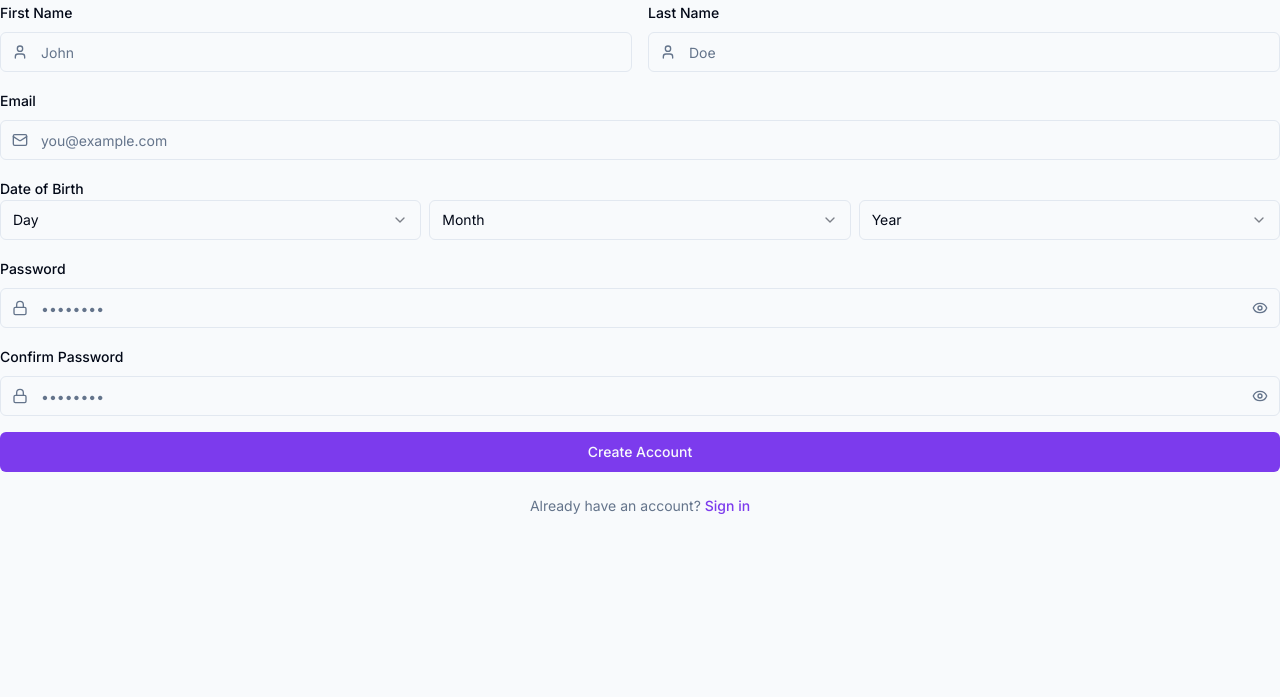
Scenario: SignupForm › should show password uppercase error if missing
The width and height of the screenshot is (1280, 697).
Type "nouppercase1!" into the password field labelled "Password". click: (640, 308)
box: [0,288,1279,328]
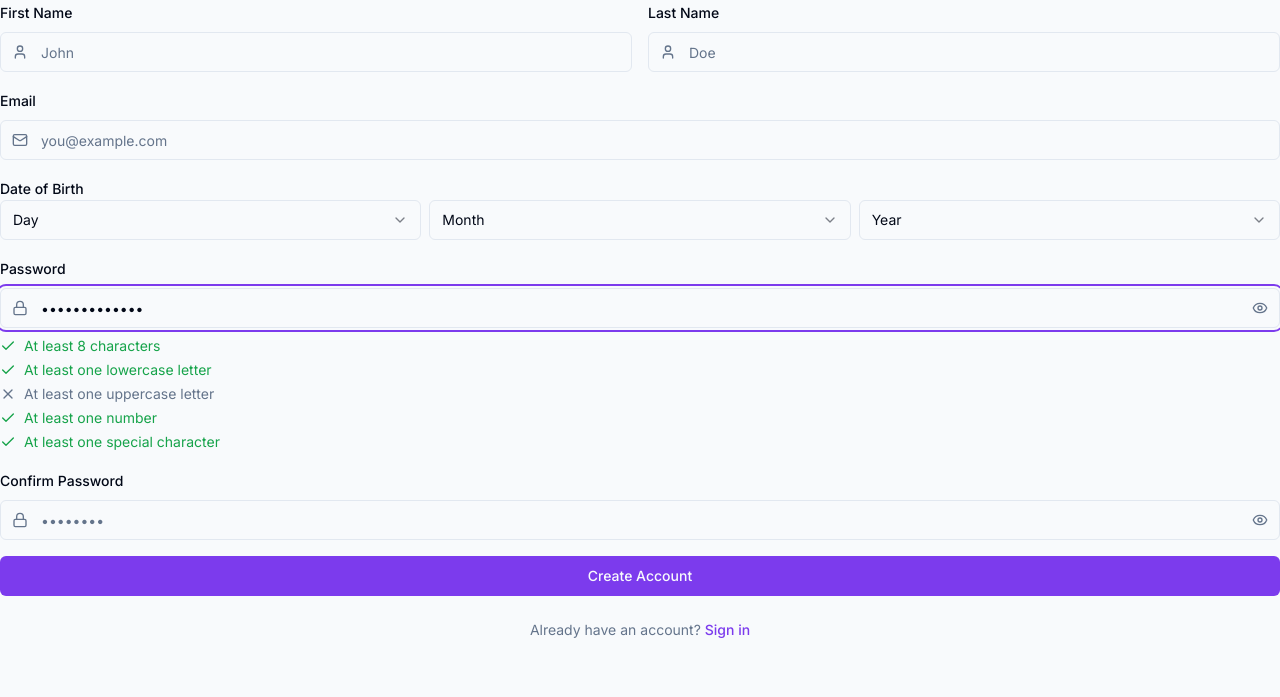
Click the field labelled "First Name". click: (316, 52)
box: [0,32,632,72]
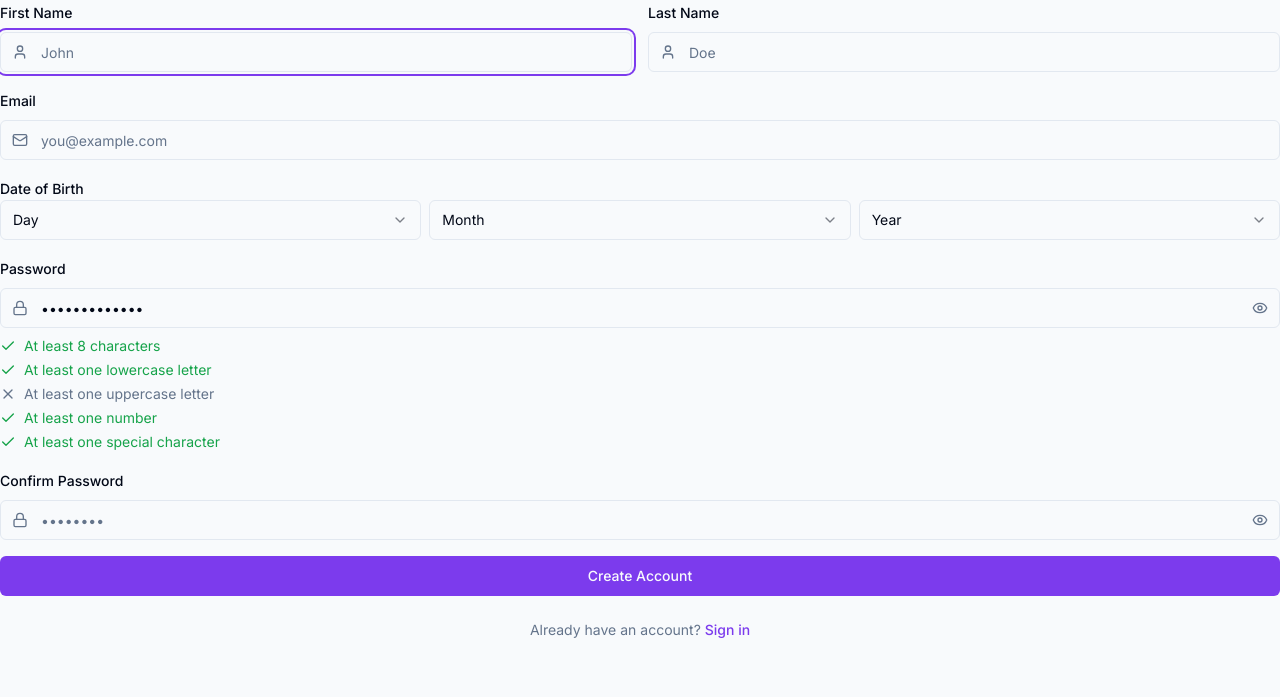
Click the button "Create Account". click: (640, 576)
box: [0,556,1279,596]
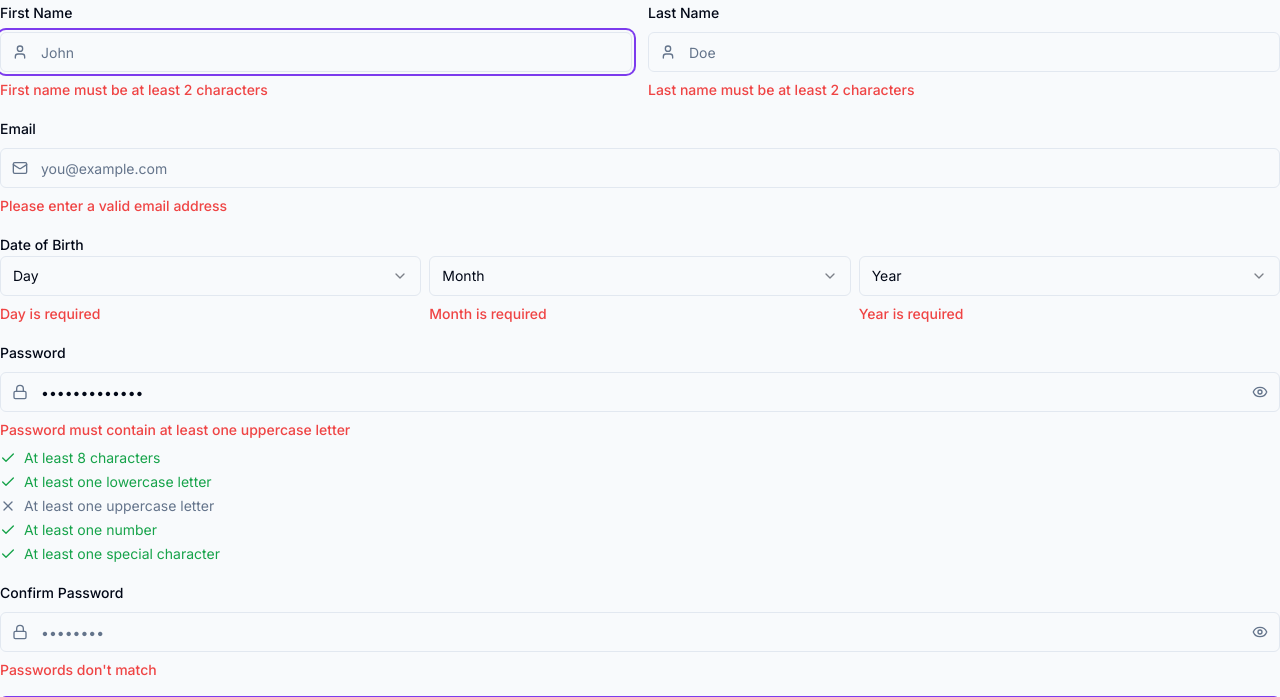
expect the text "Password must contain at least one uppercase letter" is shown: met, box [0,421,350,438]
